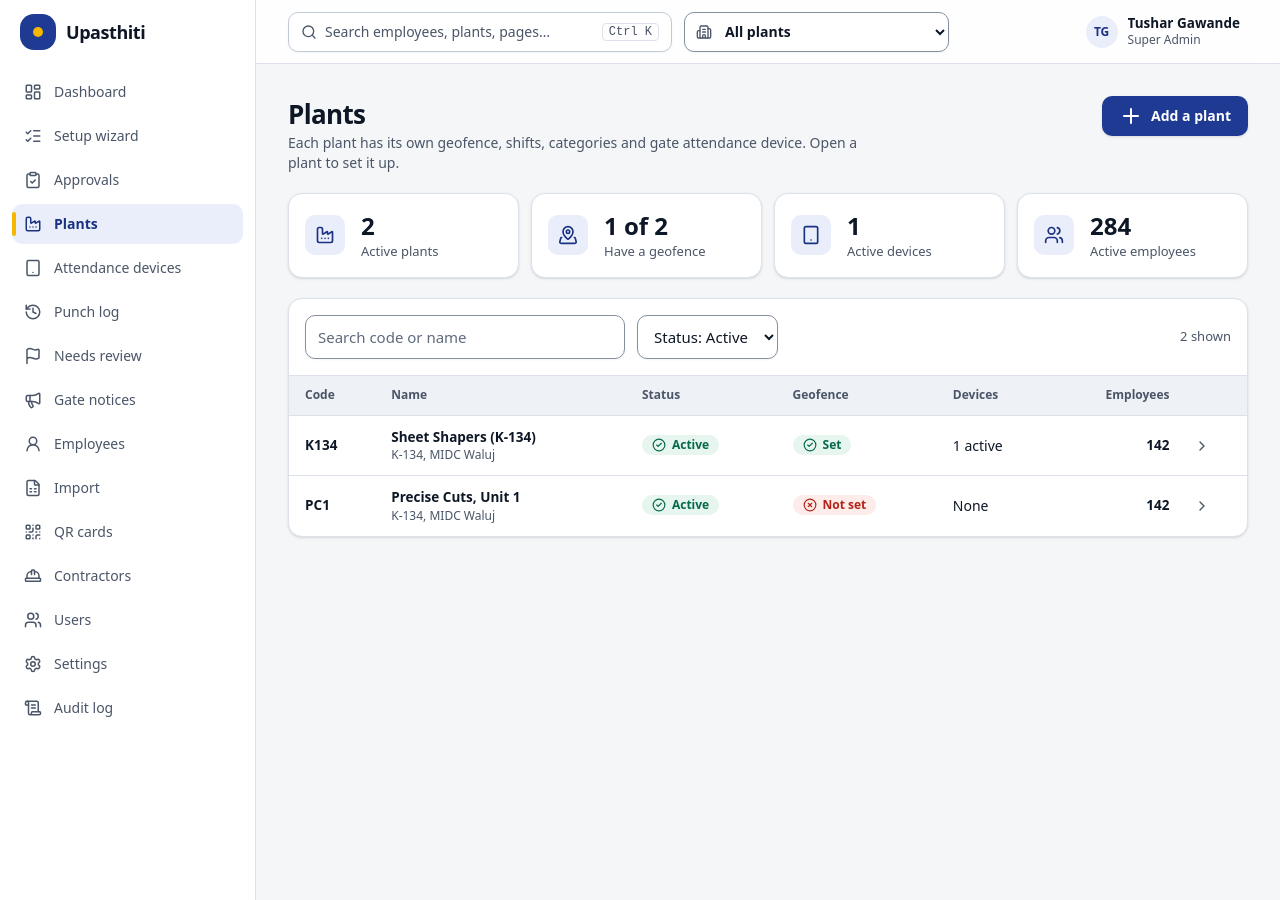
Scenario: plants list › filters by the typed text
Type "pc1" into the search field with placeholder "Search code or name" at (465, 337), box [305,315,625,359]
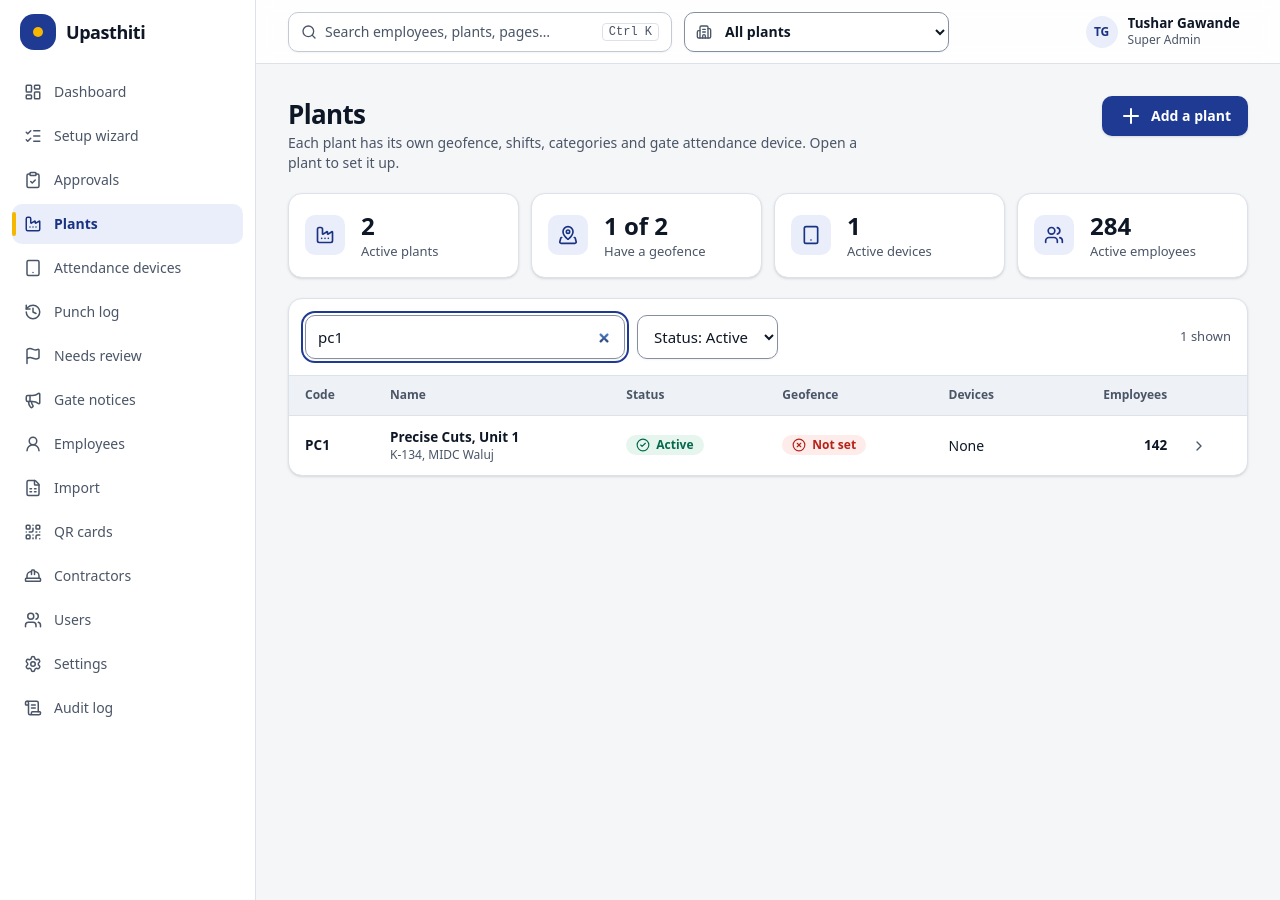
Expected: the link "Precise Cuts, Unit 1" is shown, [390,428,519,446]
Now the link "Sheet Shapers (K-134)" is gone
